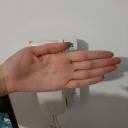OpenPalm: (8, 42, 122, 96)
